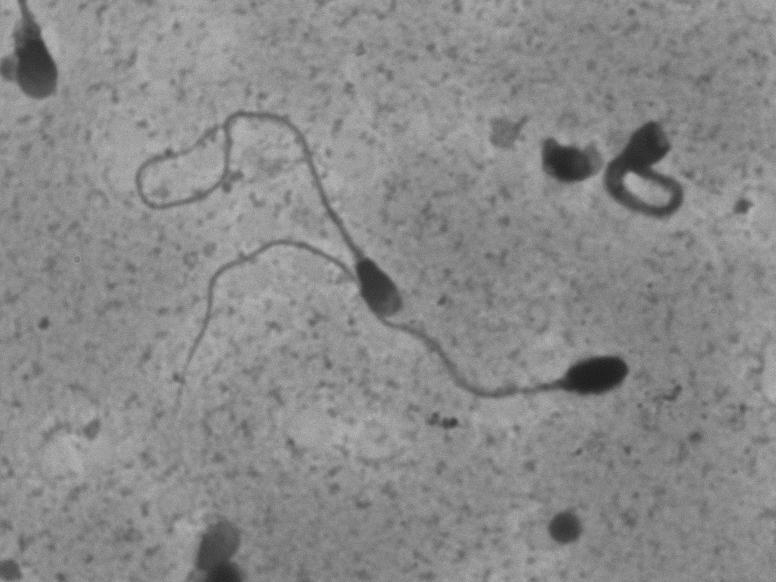Abnormal: (157, 230, 642, 422)
Normal: (105, 86, 412, 323)
